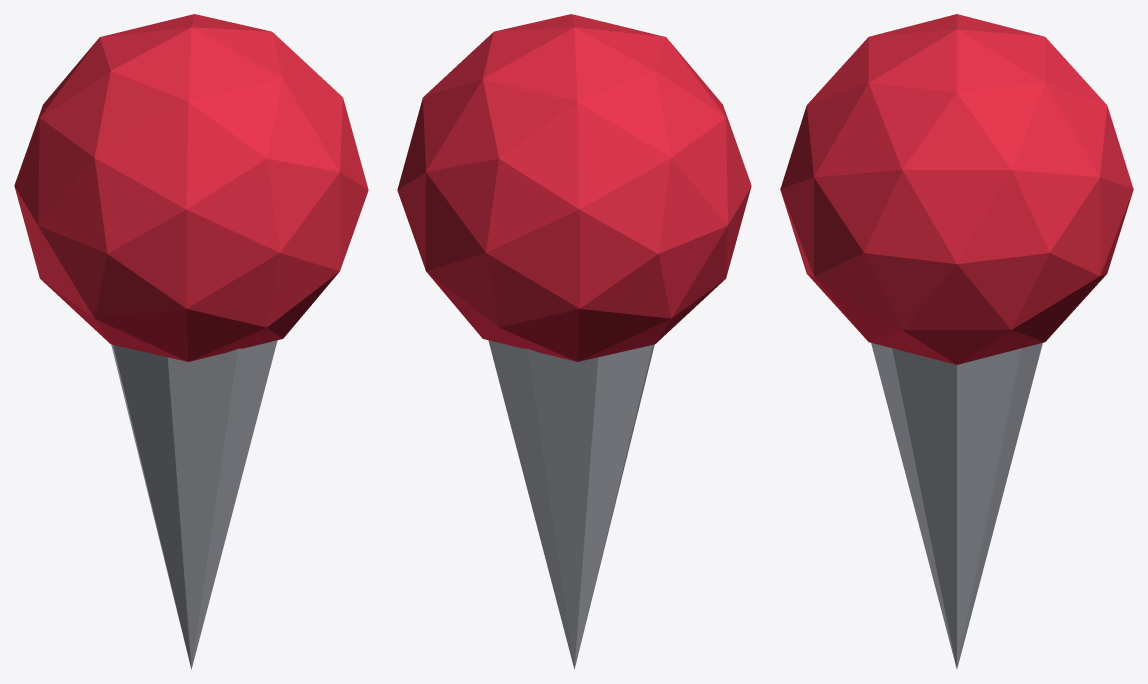
The model's file is pin.glb.
The picture shows the model from 3 angles, left to right: view 1: azimuth 30°, elevation 25°; view 2: azimuth 150°, elevation 25°; view 3: azimuth 270°, elevation 25°; orthographic projection.
Parts seen in each view (by area): view 1: pin; view 2: pin; view 3: pin.
Part boxes in pixels (box(x1,y1,x2,y2)): pin: box(14, 14, 368, 669); pin: box(397, 14, 751, 669); pin: box(780, 14, 1133, 668).
Bounding box in the file's own units: 0.34 × 0.68 × 0.34.
Materials: 1 (1 with a texture image).
